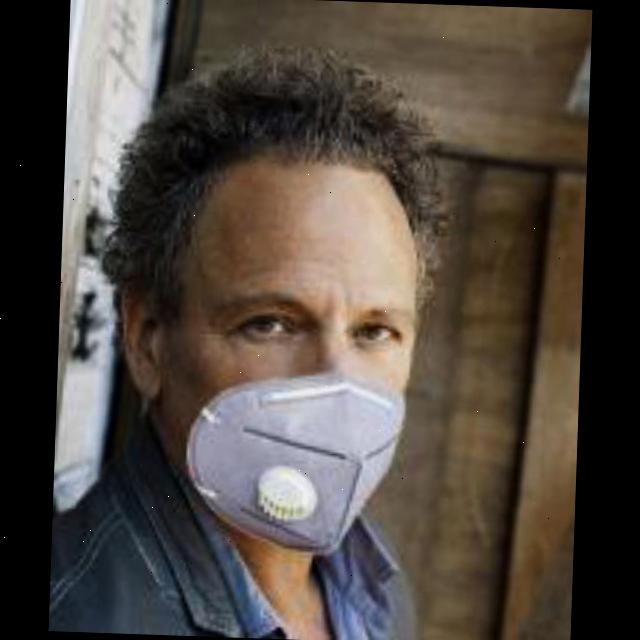suspicion: (126, 99, 432, 578)
